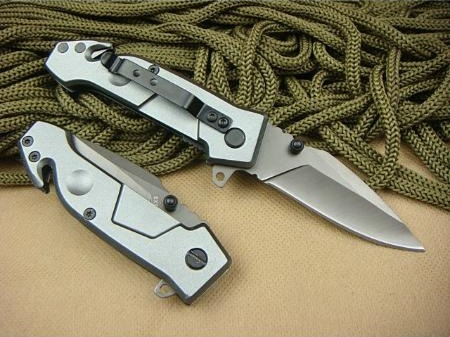knife: (234, 118, 433, 254)
